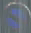No waiting: (1, 0, 29, 32)
